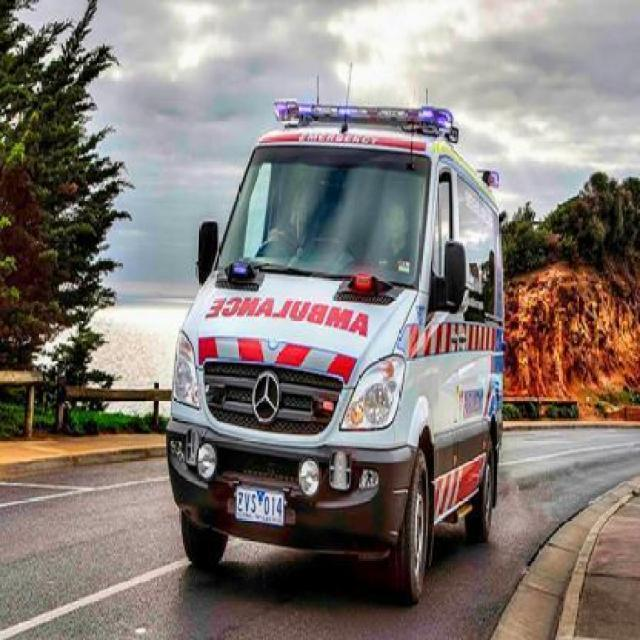emergency: (164, 70, 508, 606)
